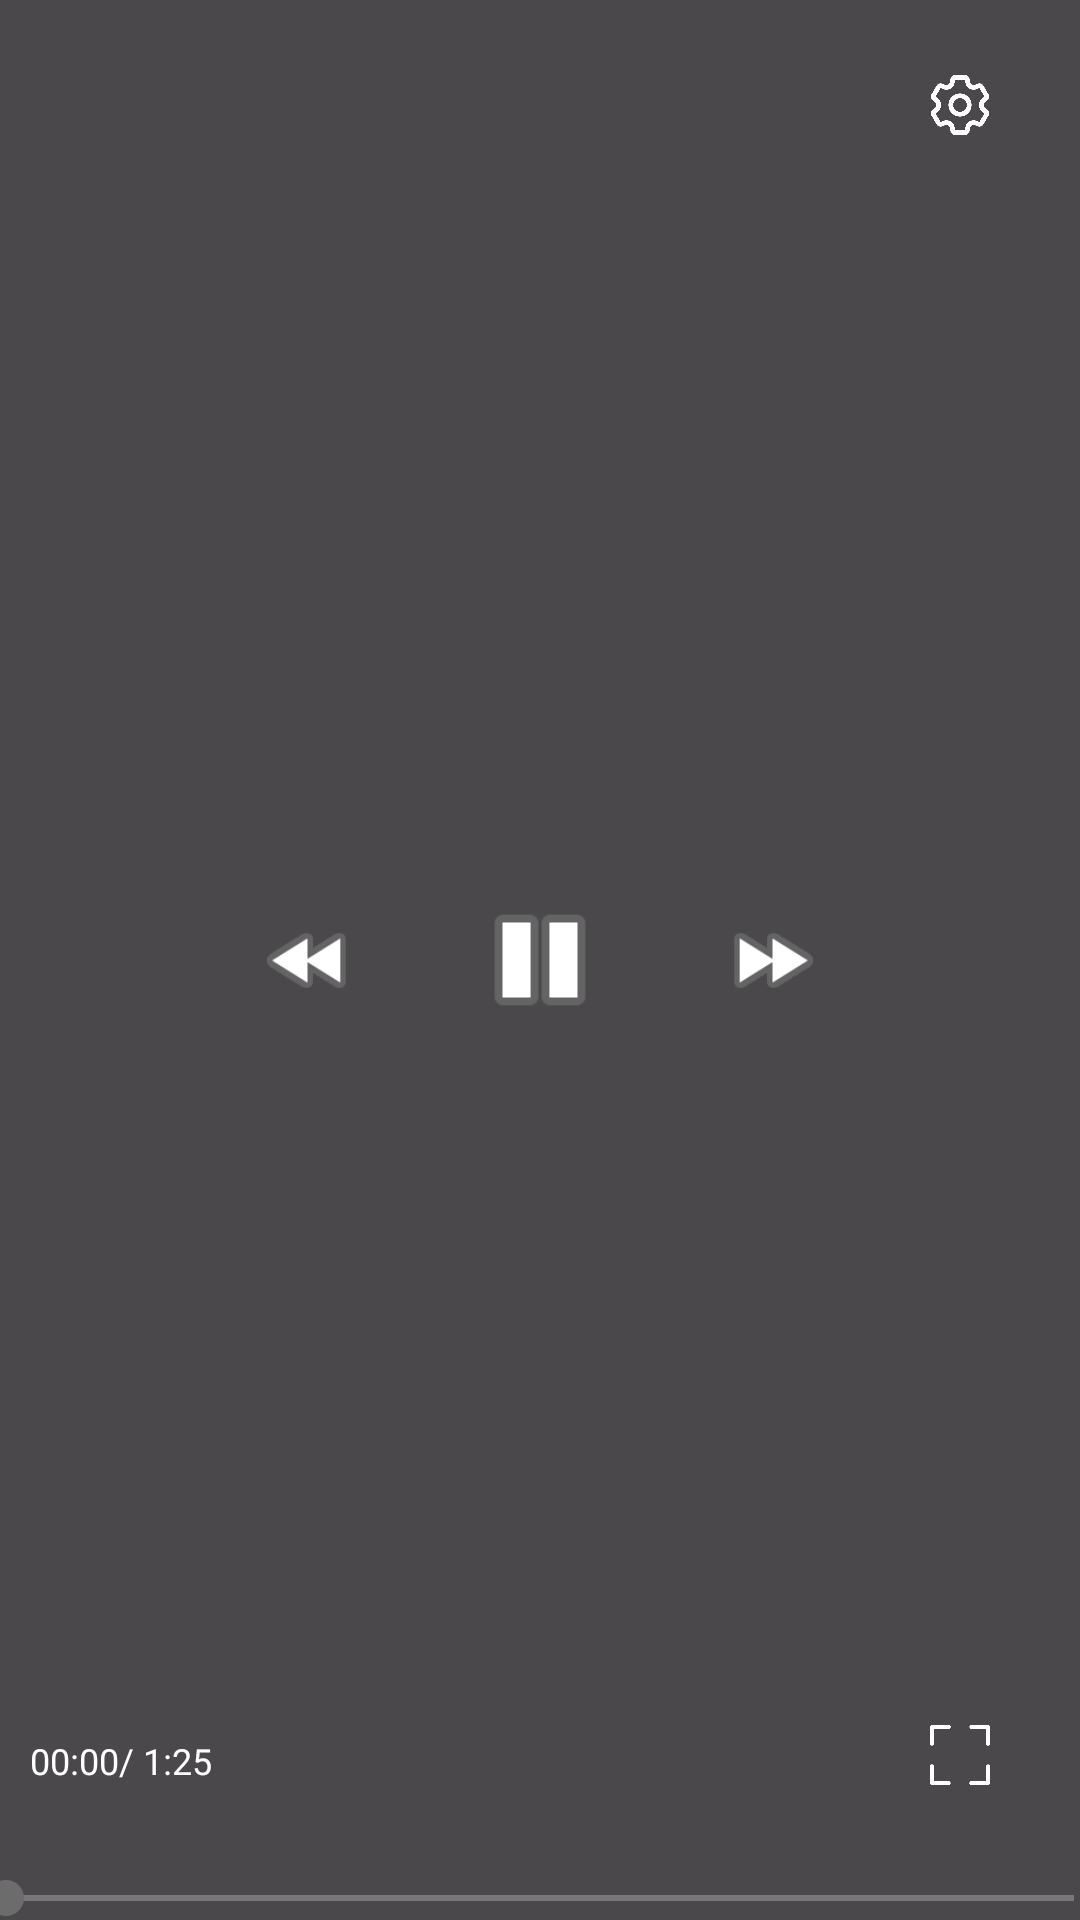

Icon click points for this 1080×1920 phone screenshot, format point (x, y):
fullscreen: point (960, 1755)
pause: point (540, 960)
rew: point (306, 960)
settings: point (960, 105)
